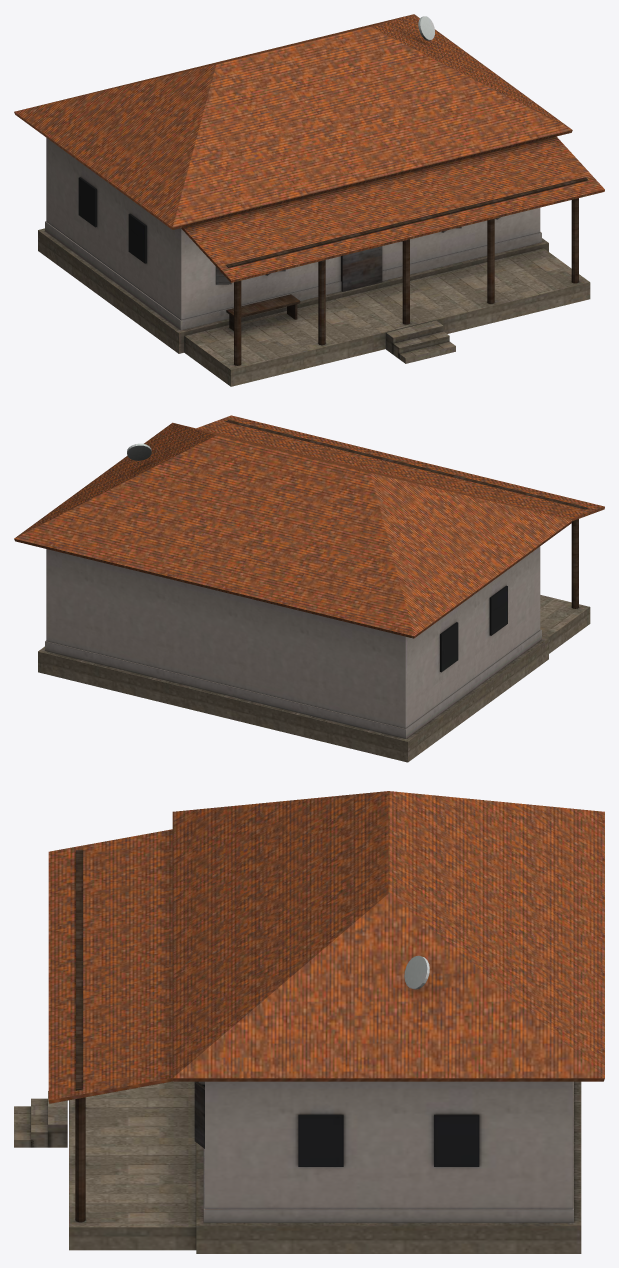
Rendered from farmhouse.glb.
3 renders of one model, top to bottom at view 1: azimuth 30°, elevation 25°; view 2: azimuth 150°, elevation 25°; view 3: azimuth 270°, elevation 25°, orthographic. The views are drawn at different scales.
Visible parts, largest first — view 1: farmhouse; view 2: farmhouse; view 3: farmhouse.
Boxes of the visible parts, <box> form: farmhouse: <box>14,14,604,386</box>; farmhouse: <box>14,415,604,762</box>; farmhouse: <box>14,791,604,1253</box>.
Bounding box in the file's own units: 11.14 × 5.63 × 10.45.
1 material, 1 textured.
